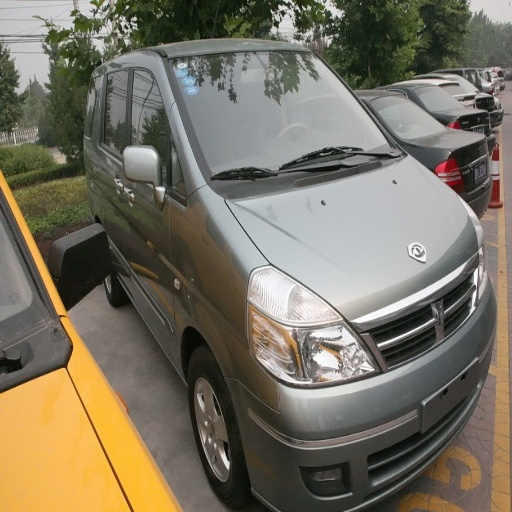front_bumper: (226, 341, 487, 511)
front_right_door: (120, 57, 181, 339)
front_right_light: (250, 267, 374, 387)
